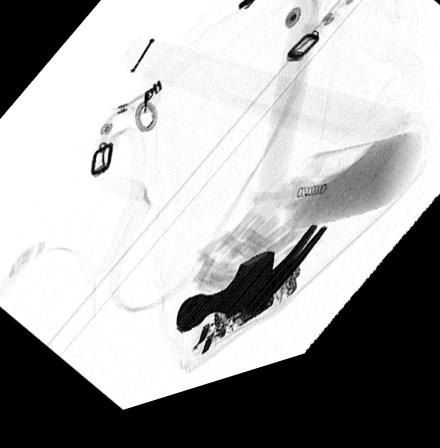Hammer: (176, 0, 329, 343)
